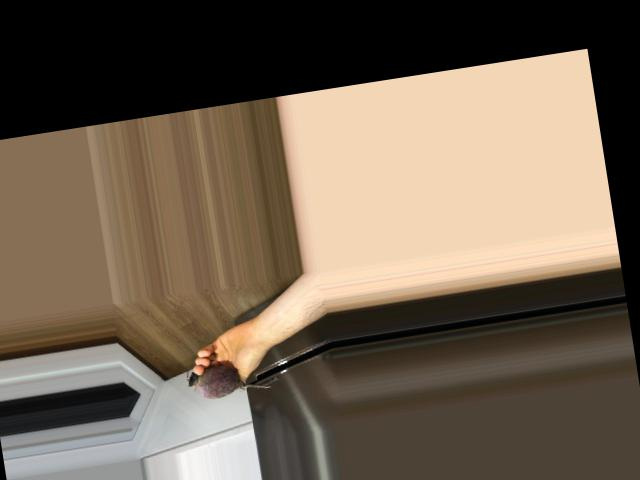beet: (185, 357, 270, 402)
